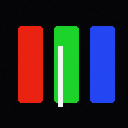4 line_v: (58, 46, 62, 106)
